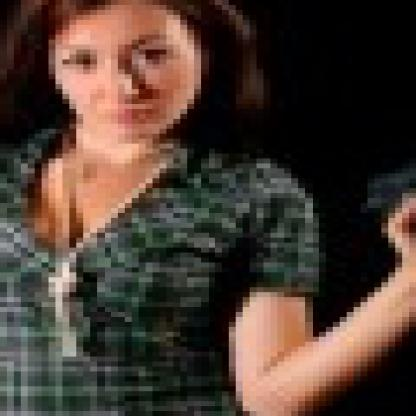gun: (333, 94, 409, 292)
